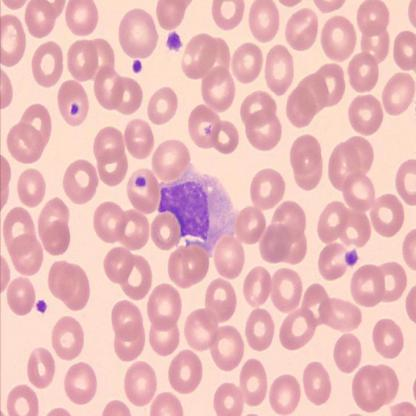Metamyelocyte: (154, 164, 240, 258)
